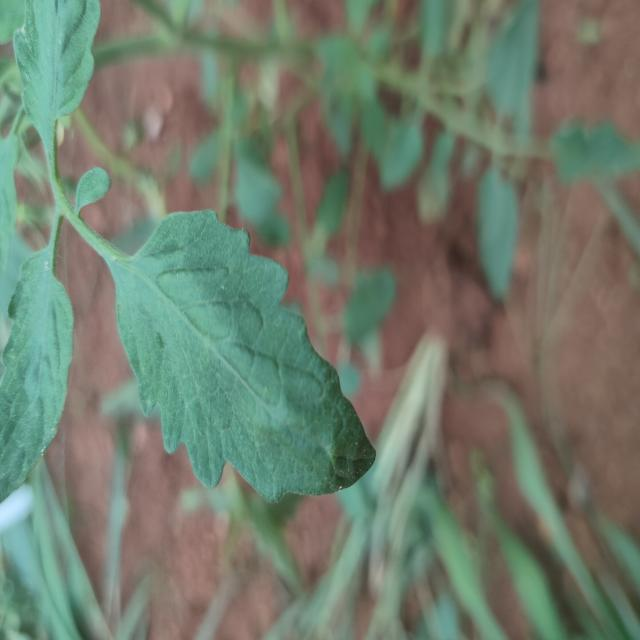tomato_healthy: (111, 207, 378, 504), (2, 246, 75, 514)
